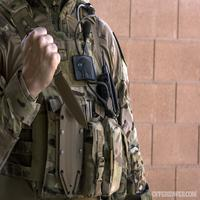knife: (24, 20, 92, 135)
